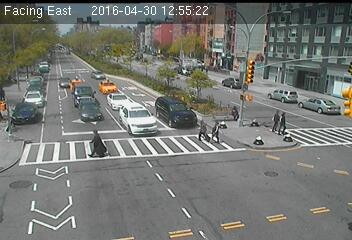neg: (139, 36, 176, 85), (30, 90, 60, 130), (313, 81, 343, 121), (45, 177, 72, 212), (234, 51, 256, 80), (131, 184, 152, 213), (200, 181, 221, 210), (16, 29, 37, 58), (291, 34, 310, 60), (267, 168, 285, 192), (242, 134, 258, 156), (89, 74, 105, 95)
pos: (82, 128, 105, 159), (188, 117, 207, 142), (264, 108, 281, 131), (278, 110, 295, 133), (207, 119, 223, 140)
